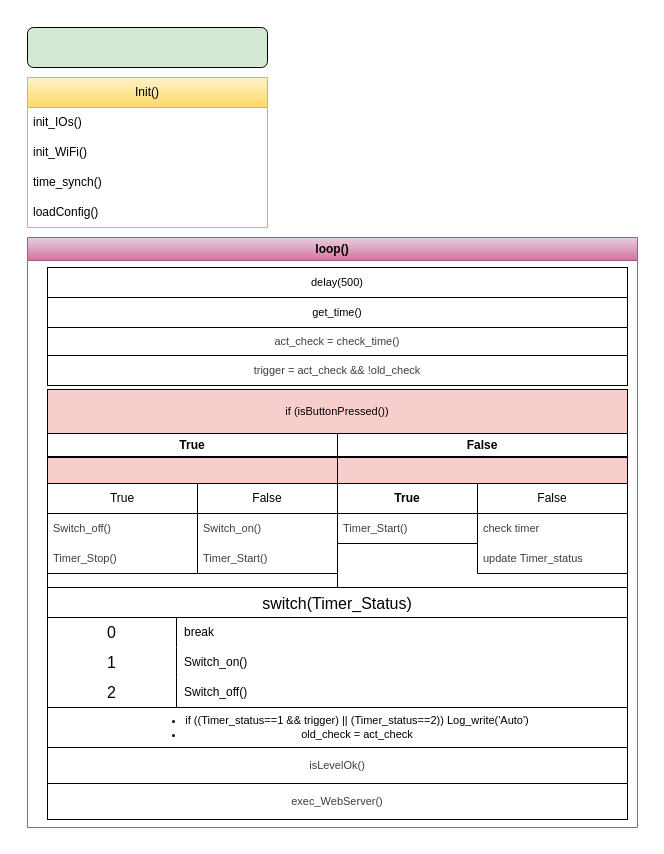
Image size: 664x854. Some labels were removed from this diagram. The shapes that lost their labels are listed below. From the top down, each one's centre as x and y in pixels, then its label:
point 147,47: Start
point 192,470: if (Relais is on)
point 482,470: if (trigger)
